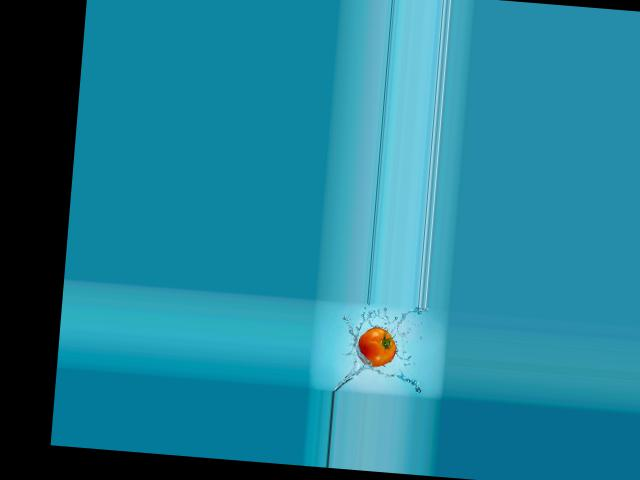tomato: (356, 325, 397, 368)
